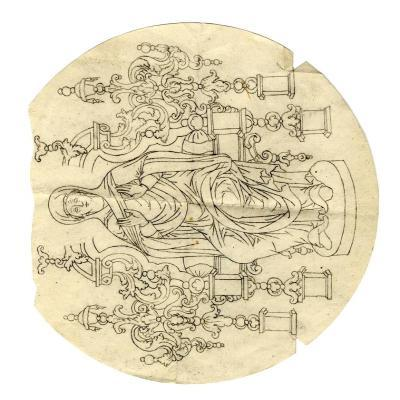graphics: (27, 22, 380, 386)
